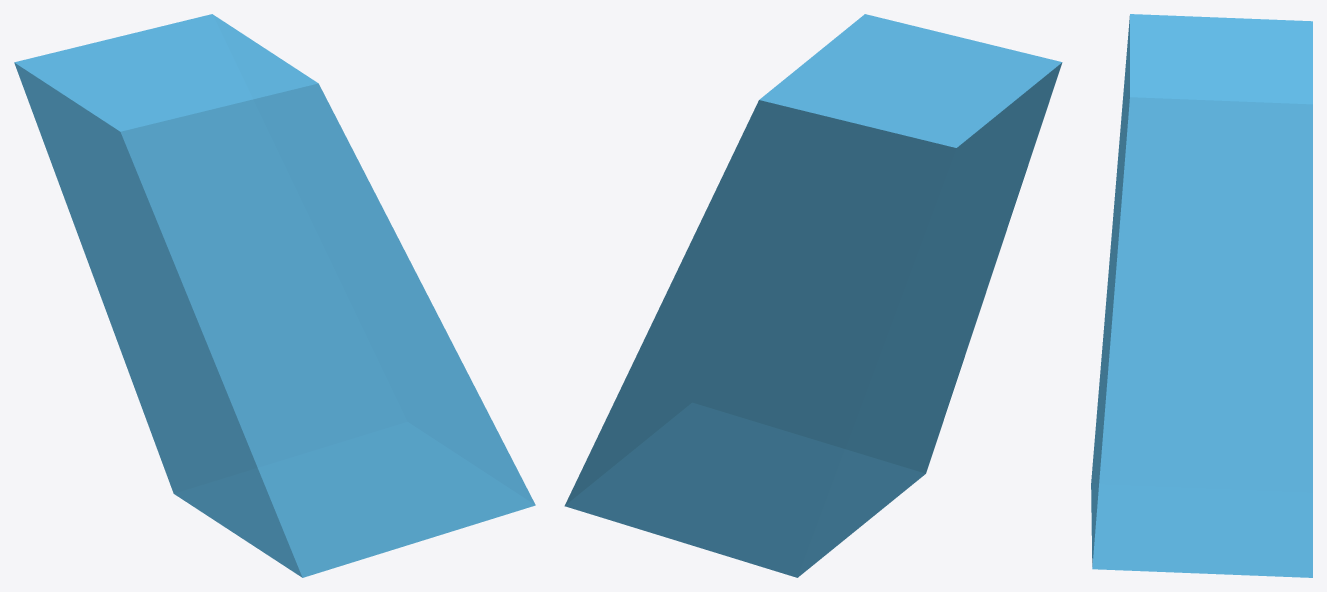
Rendered from Event_421278790_HBrechit_21.fbx.
3 renders of one model, left to right at view 1: azimuth 30°, elevation 25°; view 2: azimuth 150°, elevation 25°; view 3: azimuth 270°, elevation 25°, orthographic. The views are drawn at different scales.
Visible parts, largest first — view 1: Model; view 2: Model; view 3: Model.
Boxes of the visible parts, x1,y1,x2,y2 form: Model: (14, 14, 535, 577); Model: (564, 14, 1062, 577); Model: (1091, 14, 1312, 577).
Size of the model in its own units: 0.8572 by 0.9966 by 0.4866.
